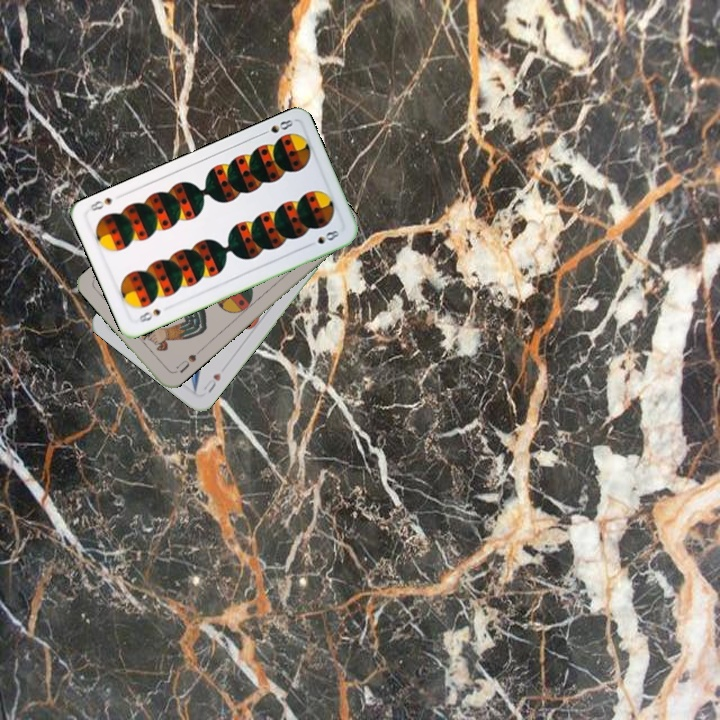HU: (199, 369, 224, 396)
S8: (257, 115, 296, 138), (135, 305, 164, 325)
SU: (169, 346, 204, 376)
